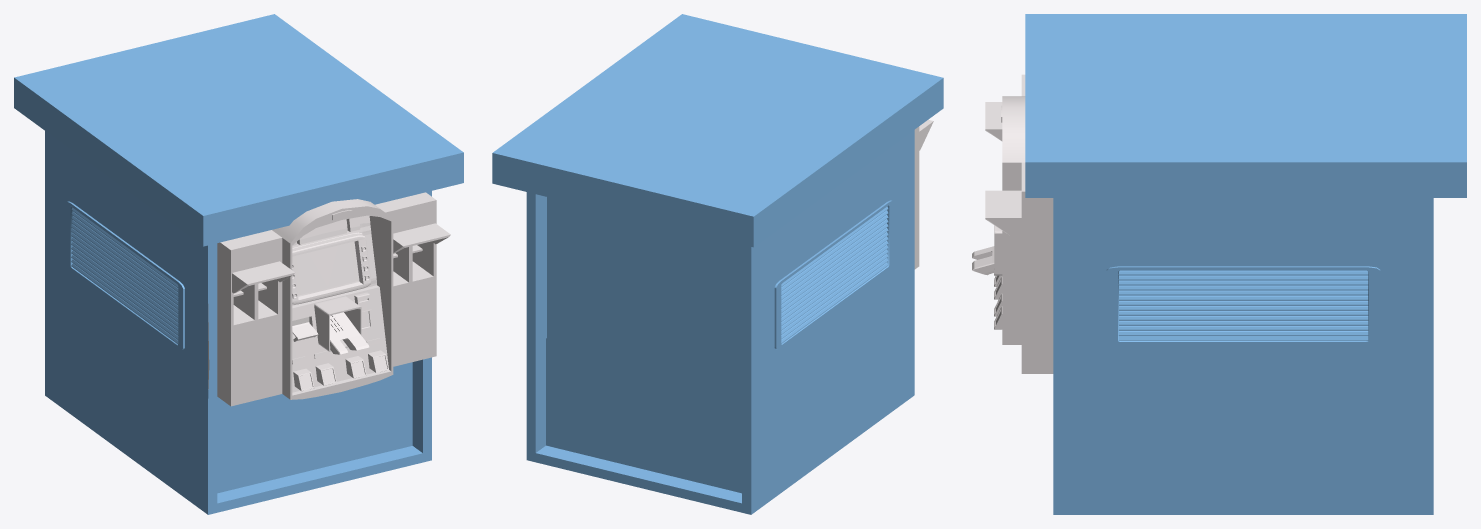
Rendered from soplador.fbx.
3 views of the same model, side by side, from view 1: azimuth 30°, elevation 25°; view 2: azimuth 150°, elevation 25°; view 3: azimuth 270°, elevation 25° (orthographic). The views are drawn at different scales.
Parts seen in each view (by area): view 1: GasPump_Body, Cube, GasPump_ControlPanel; view 2: GasPump_Body, Cube, GasPump_ControlPanel; view 3: GasPump_Body, Cube, GasPump_ControlPanel.
Boxes of the visible parts, box(x1,y1,x2,y2) form: GasPump_Body: box(45, 131, 431, 514); Cube: box(14, 14, 463, 246); GasPump_ControlPanel: box(208, 192, 450, 406); GasPump_Body: box(526, 130, 914, 514); Cube: box(492, 14, 943, 247); GasPump_ControlPanel: box(914, 119, 933, 269); GasPump_Body: box(1053, 198, 1433, 514); Cube: box(1025, 14, 1466, 197); GasPump_ControlPanel: box(972, 74, 1053, 373).
Size of the model in its own units: 140 by 160 by 197.
